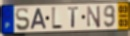9: (103, 4, 117, 28)
A: (30, 8, 48, 31)
L: (51, 6, 63, 31)
N: (86, 5, 102, 29)
S: (15, 6, 31, 32)
T: (67, 6, 80, 29)
